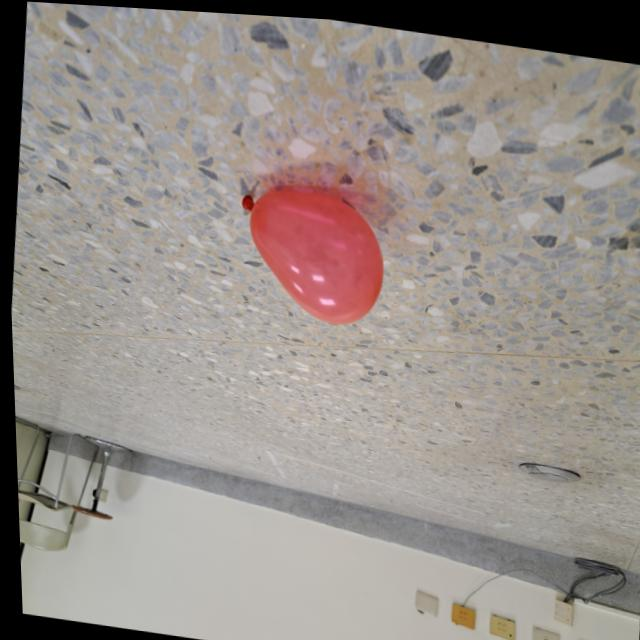red: (228, 173, 391, 326)
